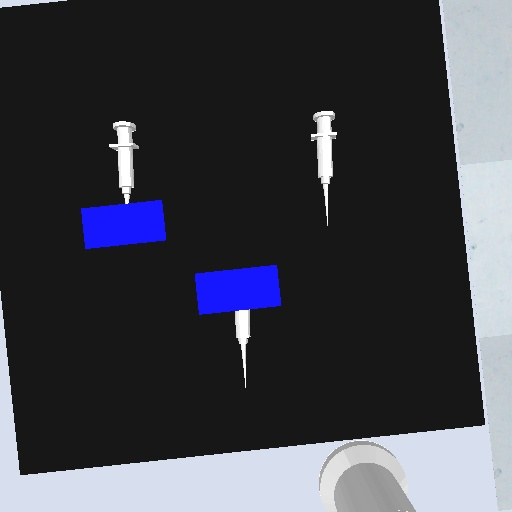jeringuilla: (307, 107, 344, 229), (106, 117, 143, 206), (233, 308, 254, 390)
